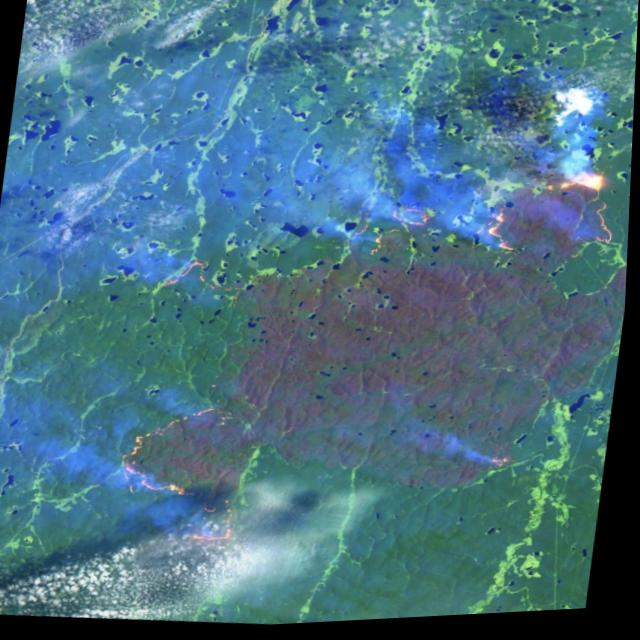fire: (112, 396, 257, 551), (480, 164, 627, 268), (365, 204, 439, 267), (156, 251, 214, 297), (482, 454, 521, 480)
